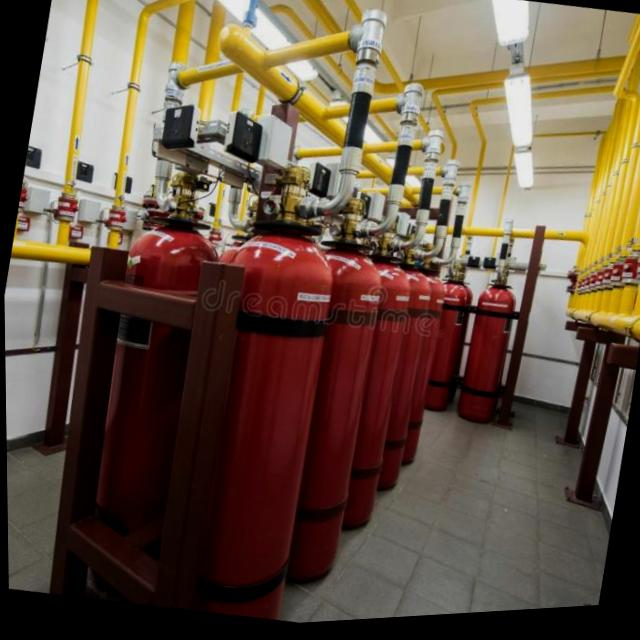FireExtinguisher: (161, 151, 353, 627), (62, 163, 239, 613), (227, 180, 404, 599), (283, 228, 422, 551), (447, 261, 526, 434), (408, 269, 477, 424)
